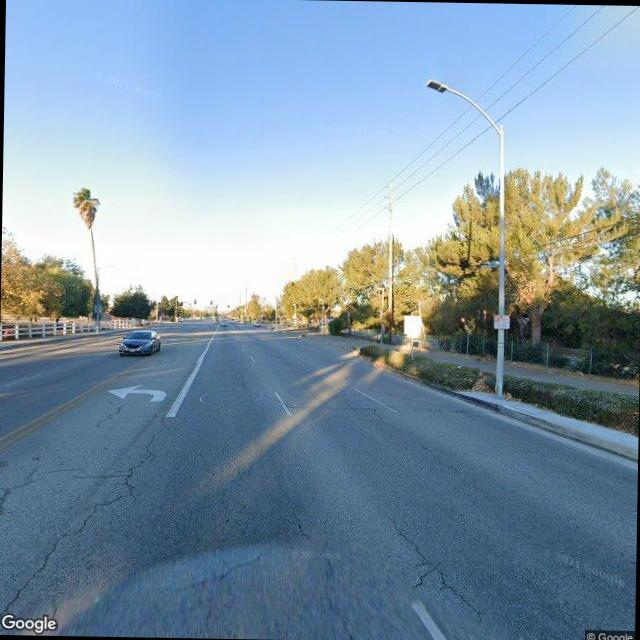crack: (0, 411, 168, 618)
pothole: (366, 406, 490, 495), (382, 513, 486, 617)
